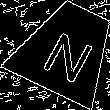N_NE: (36, 18, 98, 81)
